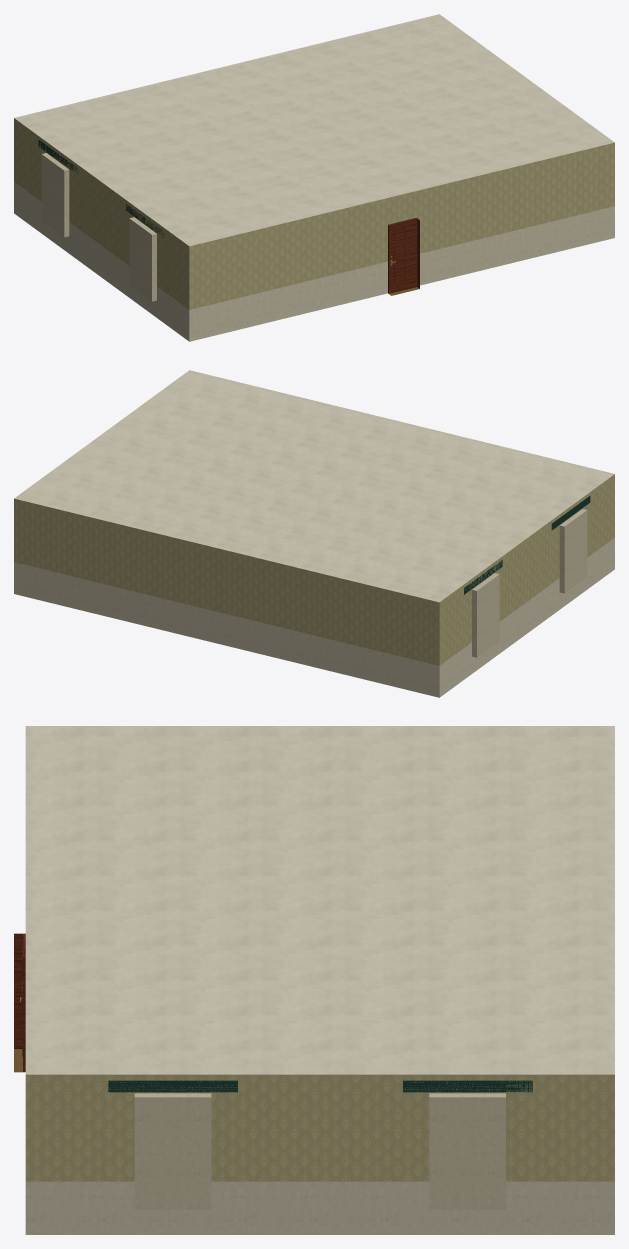
File: dining.glb
The picture shows the model from 3 angles, top to bottom: view 1: azimuth 30°, elevation 25°; view 2: azimuth 150°, elevation 25°; view 3: azimuth 270°, elevation 25°; orthographic projection. The views are drawn at different scales.
Parts seen in each view (by area): view 1: Ceiling_Hall.001, Wall_Hall.001, Wainscot.001, Window_Frame, DoorLeaf_floor_2, Drape; view 2: Ceiling_Hall.001, Wall_Hall.001, Wainscot.001, Window_Frame, Drape; view 3: Ceiling_Hall.001, Wall_Hall.001, Wainscot.001, Window_Frame, Drape, Door_Jamb.001.
Boxes of the visible parts, x1,y1,x2,y2 form: Ceiling_Hall.001: [14, 14, 614, 246]; Wall_Hall.001: [14, 118, 614, 309]; Wainscot.001: [14, 182, 614, 341]; Window_Frame: [41, 153, 156, 301]; DoorLeaf_floor_2: [388, 218, 417, 293]; Drape: [38, 140, 163, 236]; Ceiling_Hall.001: [14, 370, 614, 602]; Wall_Hall.001: [14, 474, 614, 665]; Wainscot.001: [14, 538, 614, 697]; Window_Frame: [470, 509, 587, 657]; Drape: [464, 496, 590, 594]; Ceiling_Hall.001: [25, 726, 614, 1074]; Wall_Hall.001: [25, 1074, 614, 1181]; Wainscot.001: [25, 1181, 614, 1234]; Window_Frame: [131, 1093, 510, 1209]; Drape: [108, 1080, 532, 1092]; Door_Jamb.001: [14, 933, 25, 1048].
Bounding box in the file's own units: 14.32 × 3 × 10.2.
28 materials, 21 textured.
